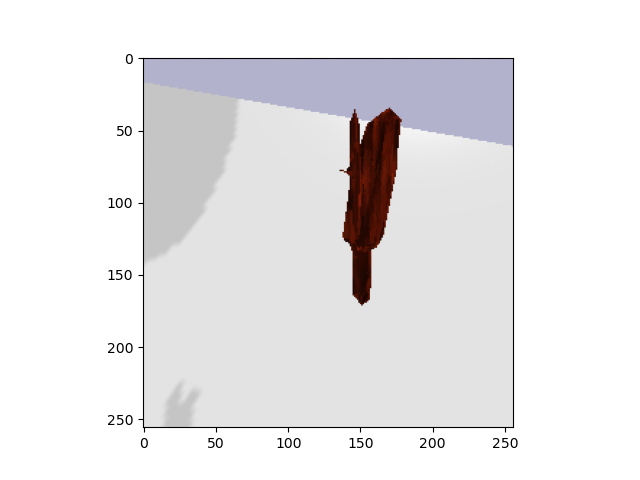v249b387_107: (337, 103, 419, 310)
